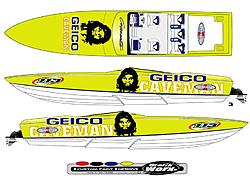geico: (149, 72, 210, 84), (46, 115, 106, 127), (71, 14, 78, 52)
